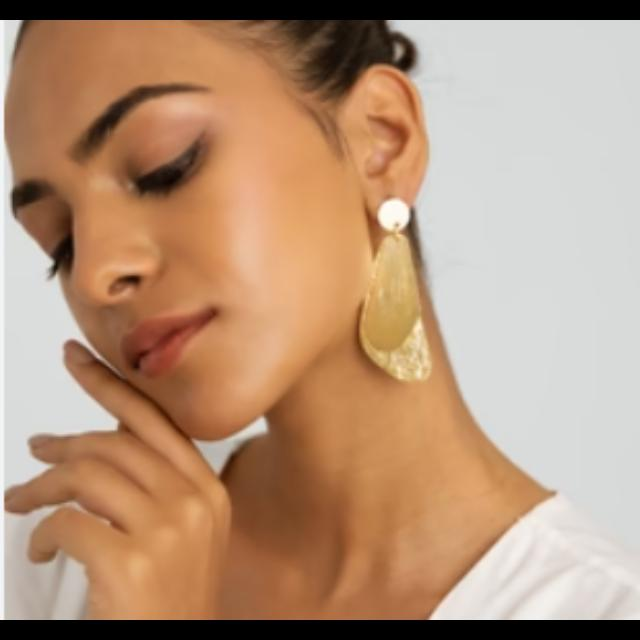ear ring: (358, 198, 436, 384)
